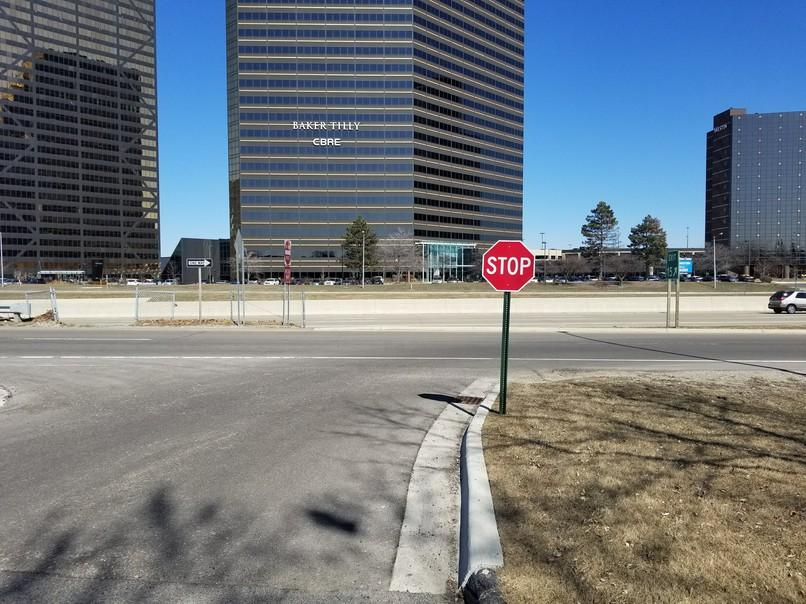Pole: (500, 294, 511, 414), (199, 268, 201, 326), (283, 283, 285, 325), (288, 284, 290, 326)
Sign: (481, 239, 535, 291)
